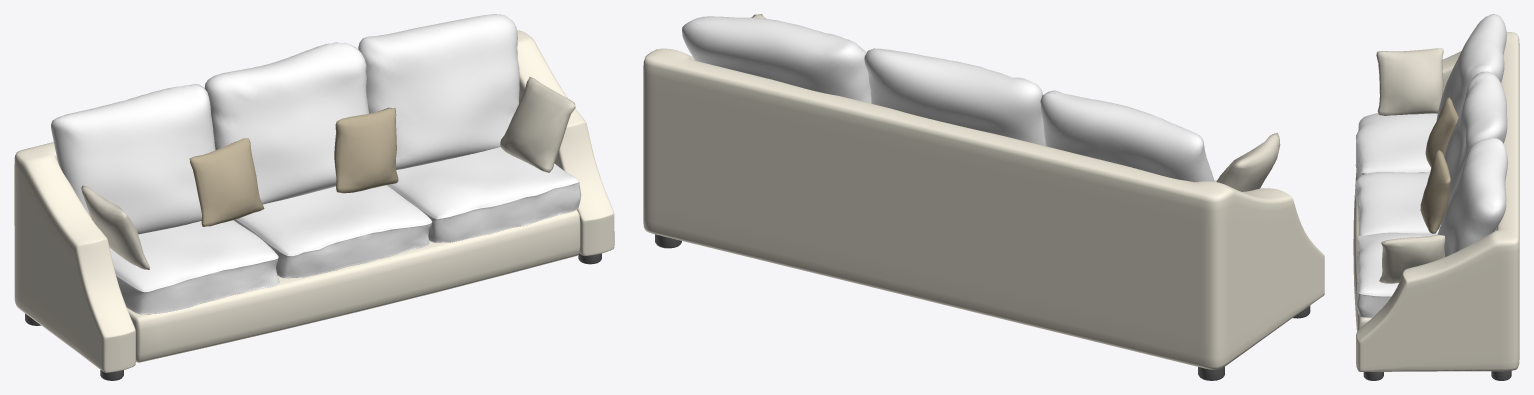
The model's file is beige_sofa.glb.
The picture shows the model from 3 angles, left to right: view 1: azimuth 30°, elevation 25°; view 2: azimuth 150°, elevation 25°; view 3: azimuth 270°, elevation 25°; orthographic projection. The views are drawn at different scales.
Visible parts, largest first — view 1: back_Plane.001, base_Cube.002, bigcushion3_Cube.015, bigcushion2_Cube.004, bigcushion1_Cube.008, base_cushion2_Cube, base_cushion1_Cube.013, base_cushion3_Cube.014, cushion_dark2_Cube.005, cushion_dark_Cube.028, cushion_clear3_Cube.007, cushion_clear2_Cube.006; view 2: back_Plane.001, bigcushion2_Cube.004, bigcushion3_Cube.015, bigcushion1_Cube.008, cushion_clear2_Cube.006; view 3: back_Plane.001, bigcushion3_Cube.015, base_cushion3_Cube.014, base_cushion2_Cube, cushion_clear2_Cube.006, bigcushion2_Cube.004, bigcushion1_Cube.008, base_cushion1_Cube.013, cushion_clear3_Cube.007, cushion_dark2_Cube.005, cushion_dark_Cube.028, base_Cube.002 (+2 smaller).
Boxes of the visible parts, x1,y1,x2,y2 form: back_Plane.001: (14,30,614,372); base_Cube.002: (127,210,580,362); bigcushion3_Cube.015: (358,14,519,169); bigcushion2_Cube.004: (204,42,368,204); bigcushion1_Cube.008: (51,84,215,234); base_cushion2_Cube: (233,185,432,278); base_cushion1_Cube.013: (387,147,581,242); base_cushion3_Cube.014: (109,220,279,314); cushion_dark2_Cube.005: (334,107,398,193); cushion_dark_Cube.028: (189,138,264,226); cushion_clear3_Cube.007: (500,77,575,172); cushion_clear2_Cube.006: (81,185,149,269); back_Plane.001: (643,48,1324,369); bigcushion2_Cube.004: (864,48,1045,145); bigcushion3_Cube.015: (682,16,871,103); bigcushion1_Cube.008: (1040,90,1214,182); cushion_clear2_Cube.006: (1216,133,1280,191); back_Plane.001: (1356,32,1519,371); bigcushion3_Cube.015: (1437,138,1507,256); base_cushion3_Cube.014: (1355,113,1437,178); base_cushion2_Cube: (1355,172,1440,235); cushion_clear2_Cube.006: (1376,48,1443,115); bigcushion2_Cube.004: (1444,71,1507,205); bigcushion1_Cube.008: (1436,14,1506,120); base_cushion1_Cube.013: (1356,232,1437,317); cushion_clear3_Cube.007: (1379,234,1445,283); cushion_dark2_Cube.005: (1420,149,1450,233); cushion_dark_Cube.028: (1425,97,1458,167); base_Cube.002: (1353,172,1371,331).
Size of the model in its own units: 2.23 by 0.8788 by 0.7402.
